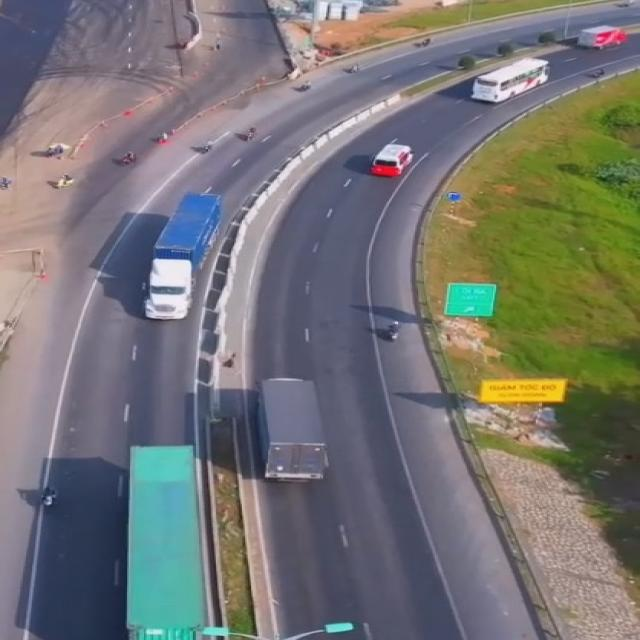bus: (473, 58, 551, 108), (368, 141, 412, 177)
motorbike: (382, 319, 402, 341), (42, 486, 64, 505)
truck: (126, 443, 210, 640), (147, 192, 222, 321), (256, 377, 328, 483), (578, 20, 624, 52)
